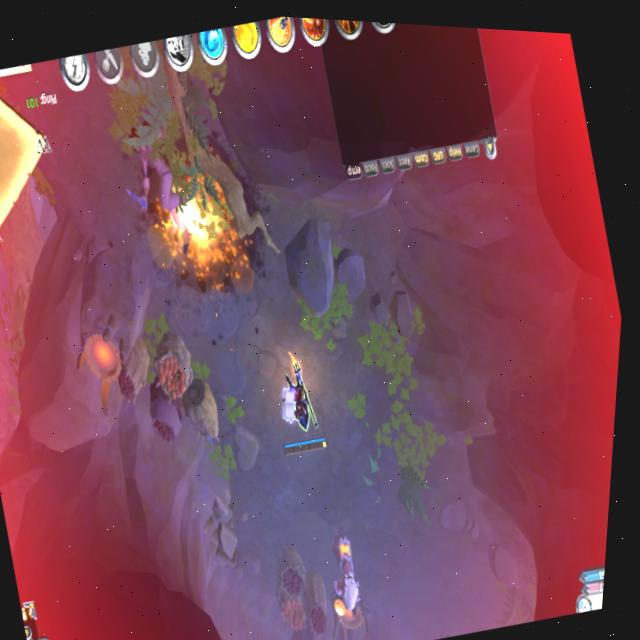ore: (304, 500, 381, 631)
red: (254, 335, 339, 463)
